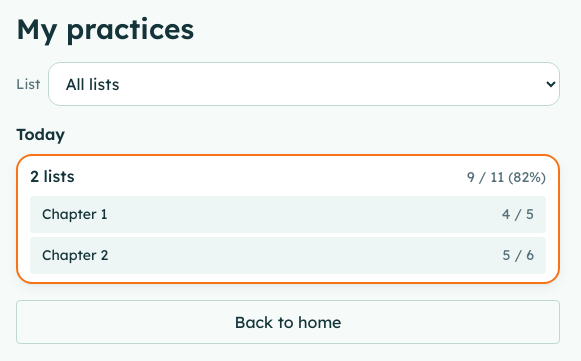
a run over several lists is one run (011 D-3) › filters to one list and shows that list’s share alone
Select "Chapter 2" in the dropdown labelled "List" at (304, 84), box [48,62,560,106]
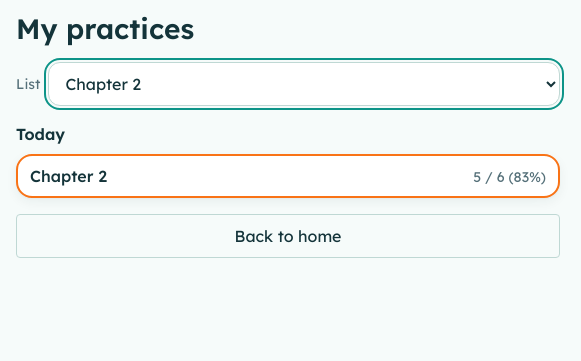
Expected: the text "5 / 6 (83%)" is shown, [473,167,546,188]
Expected: the text "9 / 11" is gone
